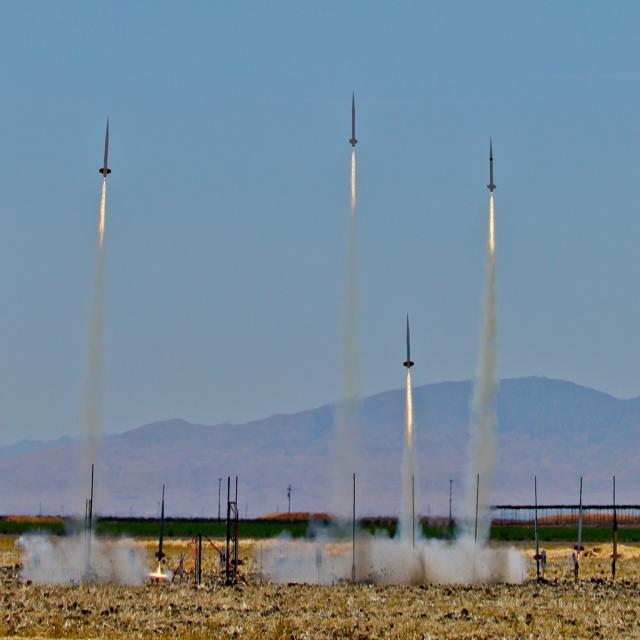missile: (92, 108, 116, 183), (342, 74, 360, 152), (399, 312, 415, 373), (484, 138, 499, 196)
